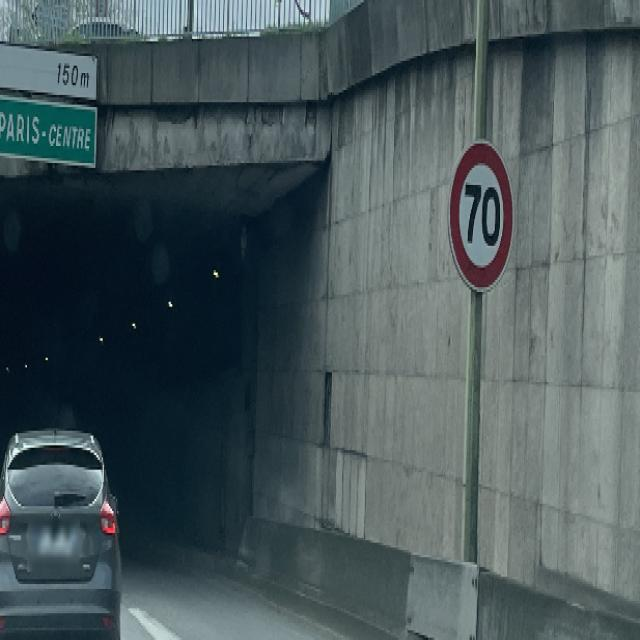speed_70: (447, 143, 514, 294)
